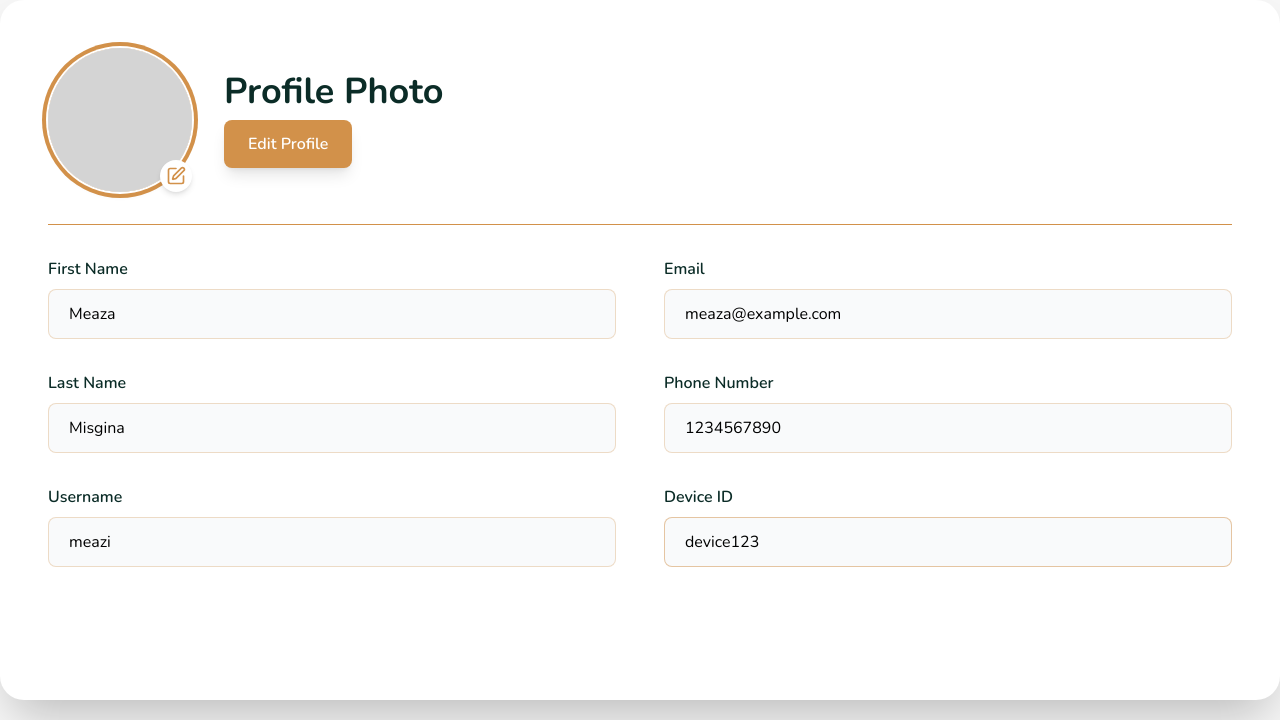
Test: ProfileForm › resets form on cancel
Click the button "Edit Profile": (288, 144) [224,120,352,168]
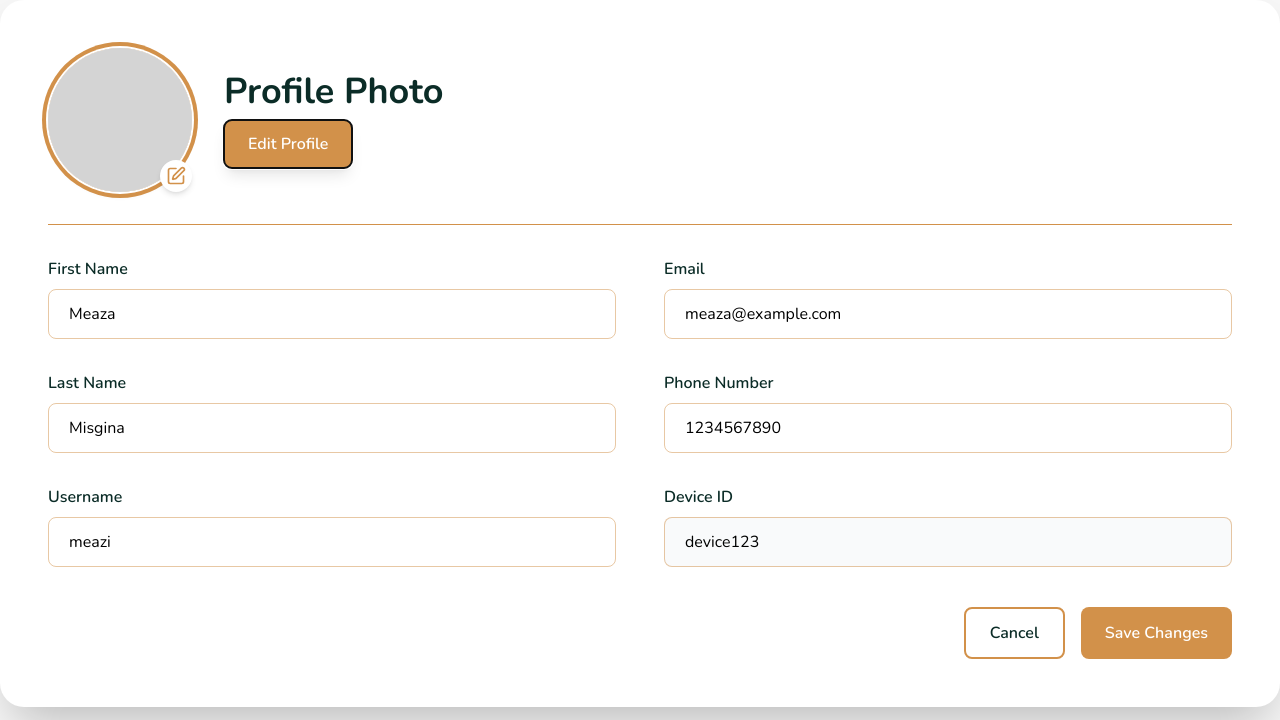
Clear the field labelled "First Name": (332, 314) [48,289,616,339]
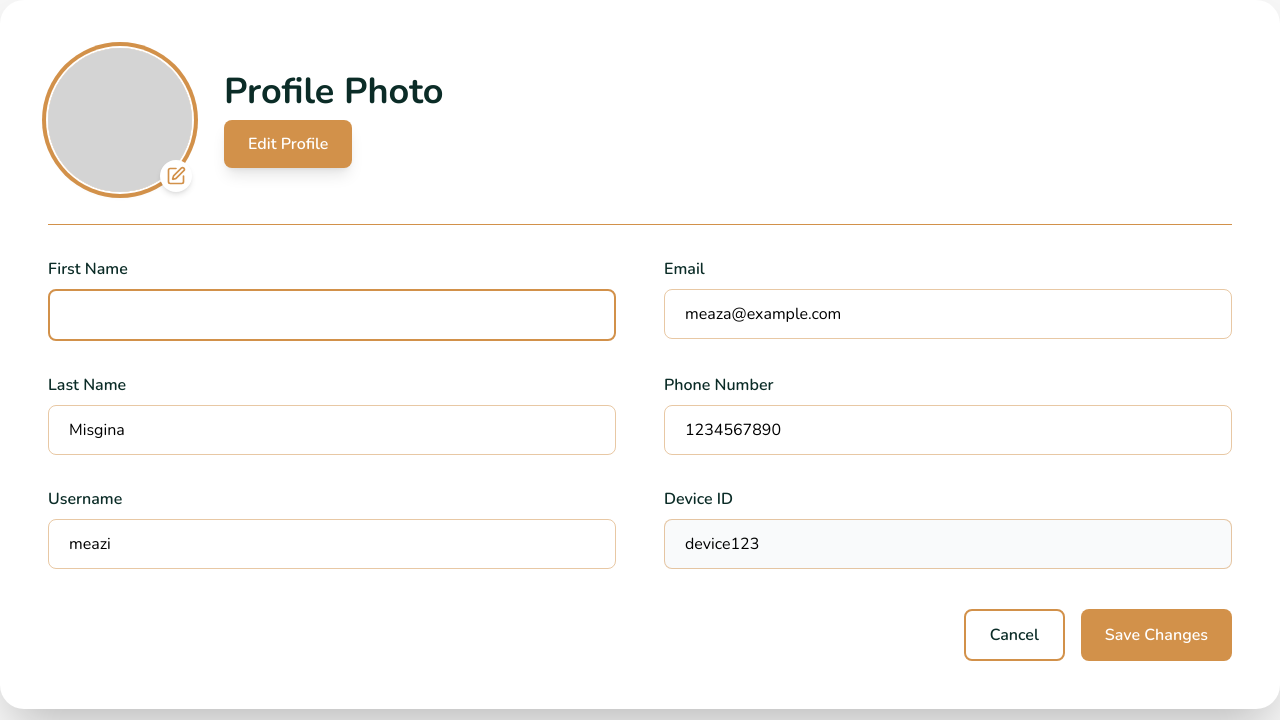
In the field labelled "First Name": (332, 315) [48,289,616,341], type "Eyeru"
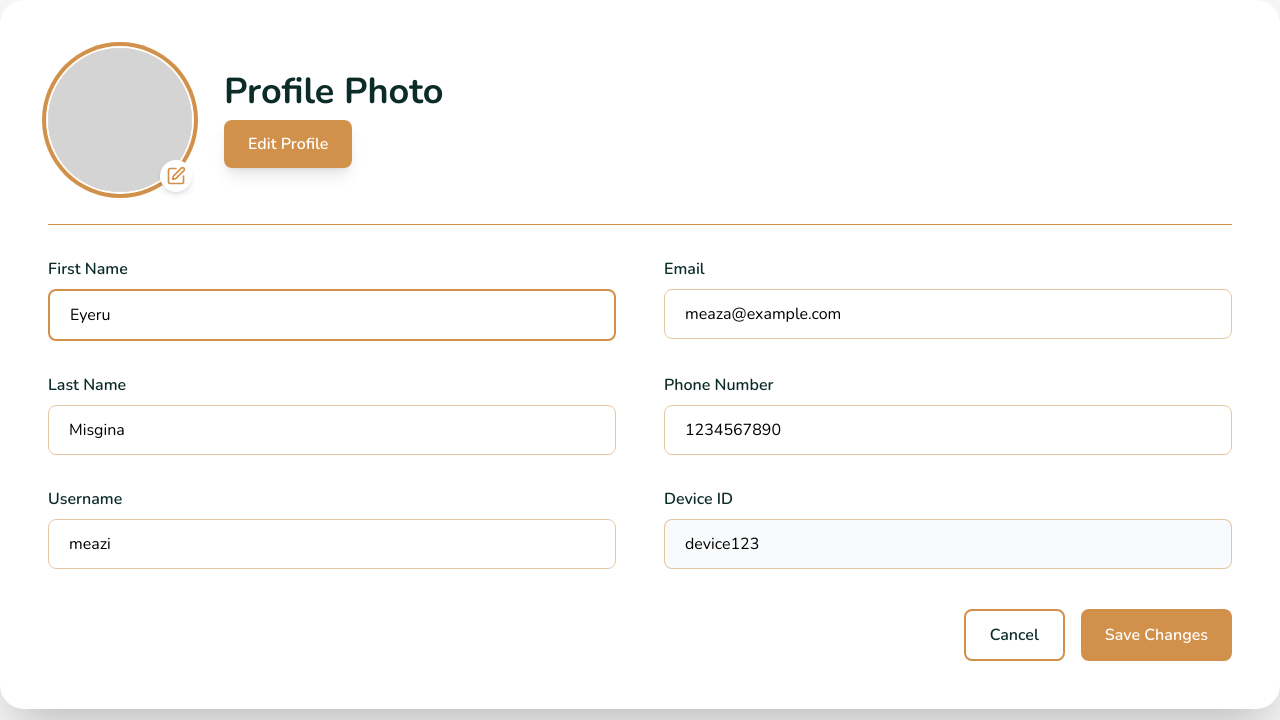
Click the button "Cancel": (1014, 635) [964,609,1065,661]
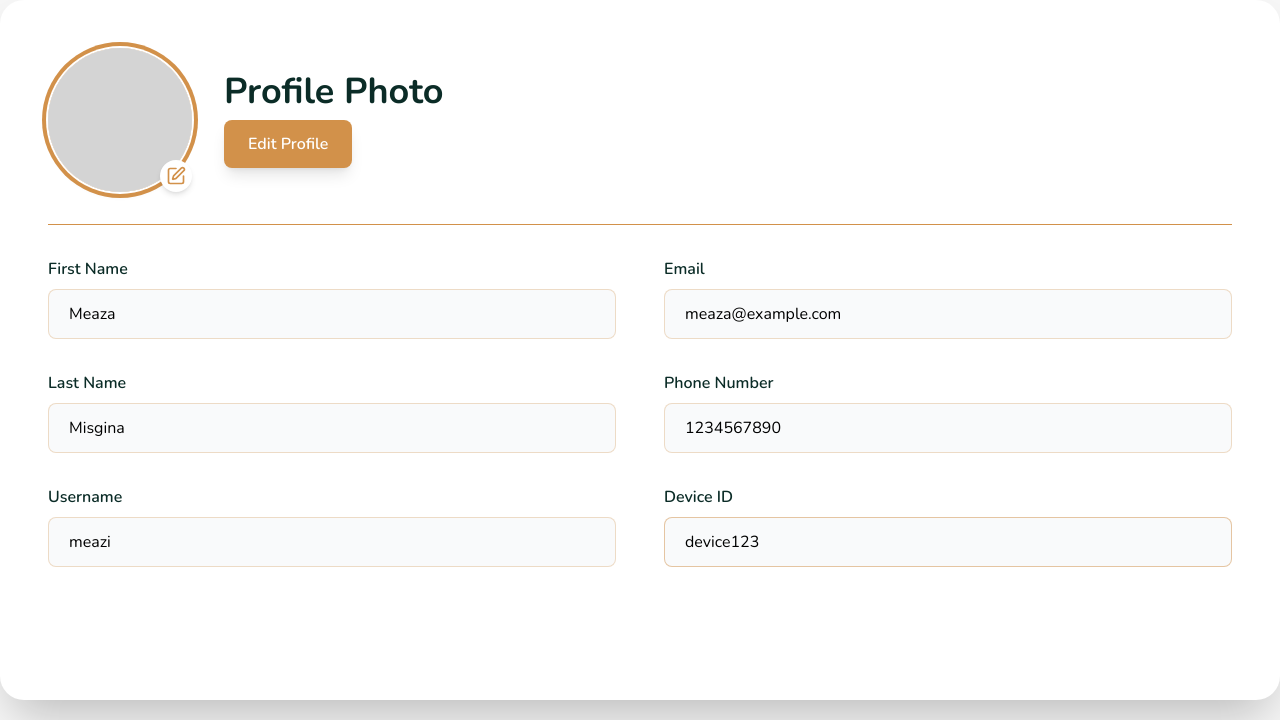
Now the field labelled "First Name" holds "Meaza", box [48,289,616,339]
Now the field labelled "First Name" is disabled, box [48,289,616,339]
